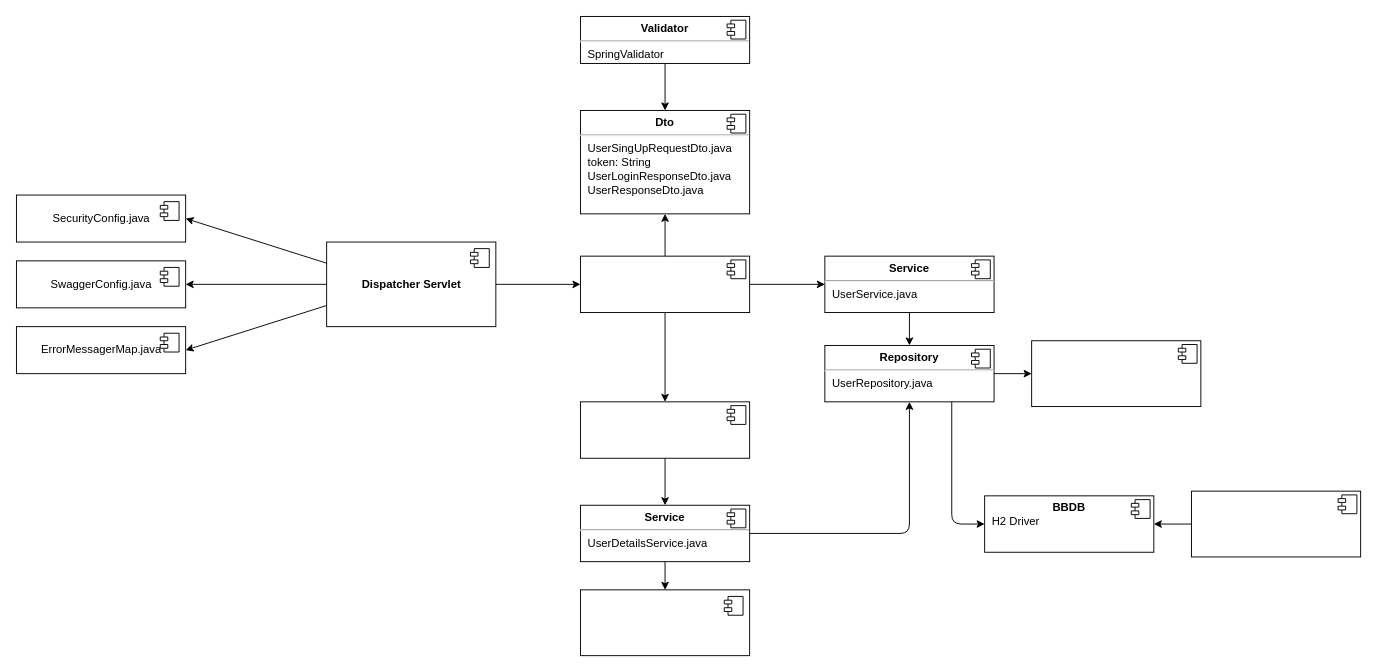
This 1377x672 diagram has some shape labels left out. The shapes that lost their labels are listed below. From the top down, each one's box as (x1, y1, x2, y2) in pixels, then its label:
(580, 255, 750, 313): Core UserController.java
(1031, 340, 1201, 407): Entity User.java Phone.java
(580, 401, 750, 458): Filter Security AuthTokenFilter.java
(1191, 490, 1361, 557): TABLE USER_ENTITY PHONE_ENTITY
(580, 589, 750, 656): UserDetailsImpl.java
